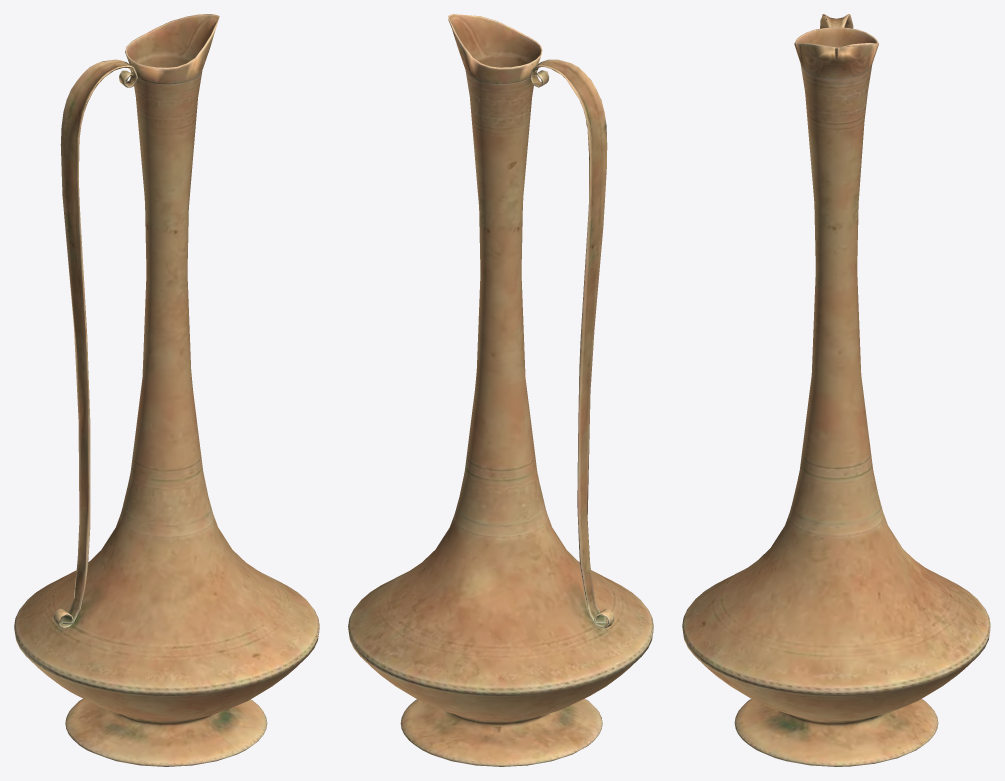
Rendered from brass_vase_02.glb.
The picture shows the model from 3 angles, left to right: view 1: azimuth 30°, elevation 25°; view 2: azimuth 150°, elevation 25°; view 3: azimuth 270°, elevation 25°; orthographic projection.
Visible parts, largest first — view 1: brass_vase_02; view 2: brass_vase_02; view 3: brass_vase_02.
Part boxes in pixels (left/top/right/bottom): brass_vase_02: left=14, top=14, right=319, bottom=766; brass_vase_02: left=348, top=14, right=653, bottom=766; brass_vase_02: left=682, top=14, right=990, bottom=766.
Size of the model in its own units: 0.2101 by 0.5286 by 0.2101.
Materials: 1 (1 with a texture image).
